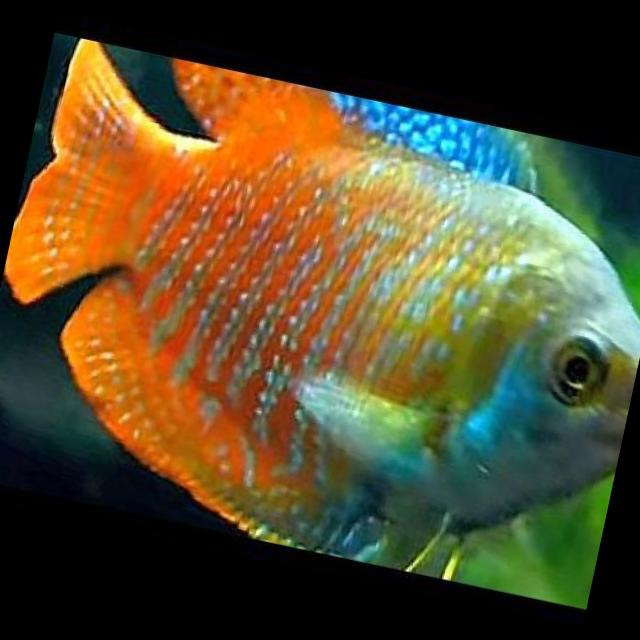Gourami: (0, 28, 640, 608)
